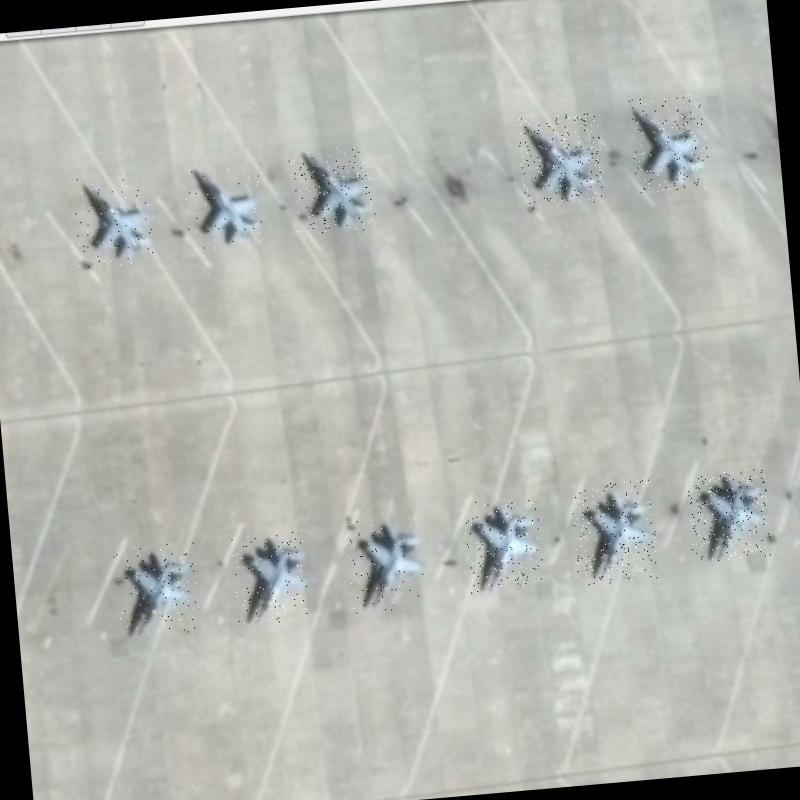A16: (569, 480, 660, 586), (112, 542, 202, 640), (70, 168, 158, 268), (516, 112, 606, 209), (288, 142, 377, 238), (344, 515, 428, 614), (180, 158, 266, 254), (686, 468, 772, 564), (628, 94, 710, 194), (462, 496, 545, 594), (231, 530, 313, 626)
